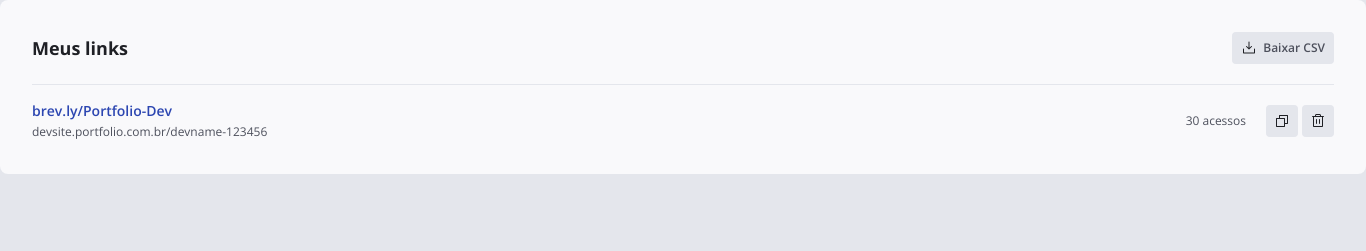
Test: LinksList › deletes after confirmation and refetches the list
What coordinates should you click on to do the following:
click the button named "Apagar link Portfolio-Dev"
I would click on:
 (1318, 121)
Its box is top-left (1302, 105), bottom-right (1334, 137).
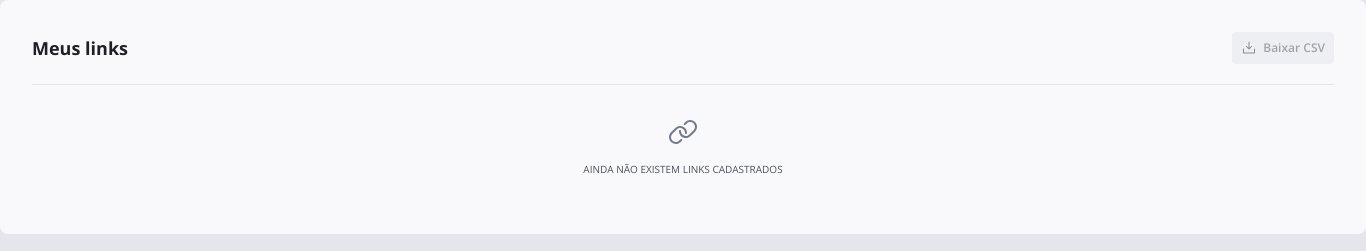
Expected: the text "Ainda não existem links cadastrados" is shown, top-left (583, 160), bottom-right (783, 178)
